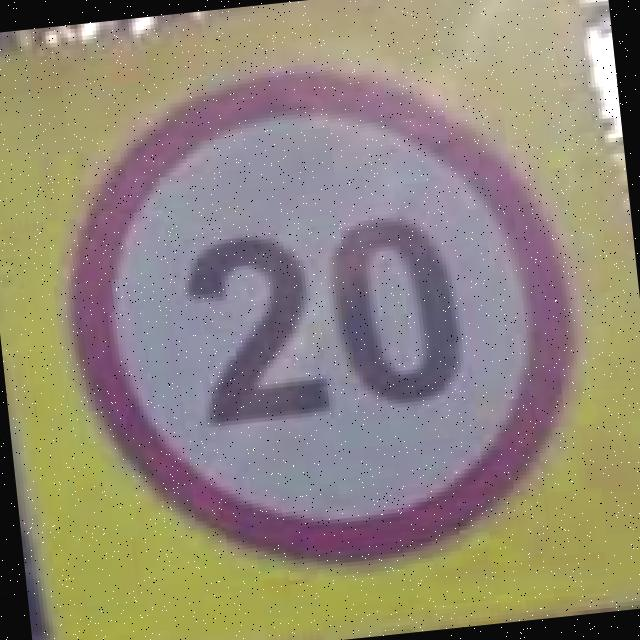Ograniczenie predkosci do 20: (39, 31, 604, 601)
